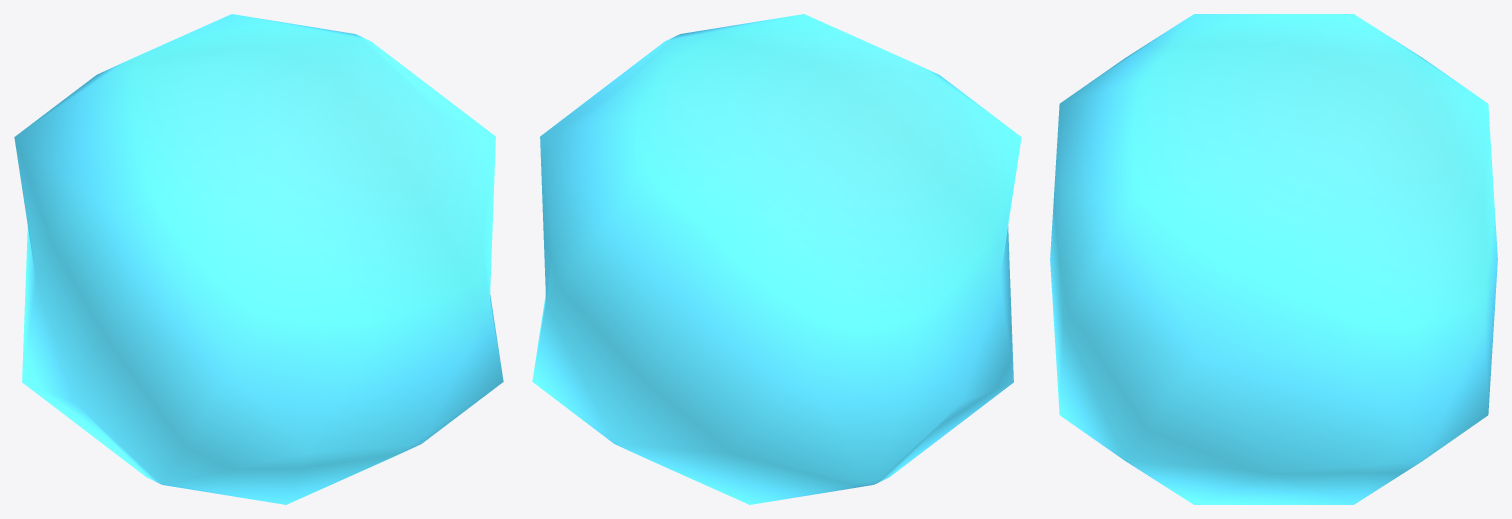
The model's file is core_03_ice_cube.glb.
3 renders of one model, left to right at view 1: azimuth 30°, elevation 25°; view 2: azimuth 150°, elevation 25°; view 3: azimuth 270°, elevation 25°, orthographic. The views are drawn at different scales.
Visible parts, largest first — view 1: CORE_03_IceCube; view 2: CORE_03_IceCube; view 3: CORE_03_IceCube.
Boxes of the visible parts, <box> form: CORE_03_IceCube: <box>14,14,503,504</box>; CORE_03_IceCube: <box>532,14,1021,504</box>; CORE_03_IceCube: <box>1050,14,1497,504</box>.
Size of the model in its own units: 0.6781 by 0.68 by 0.68.
Materials: 1 (1 with a texture image).
